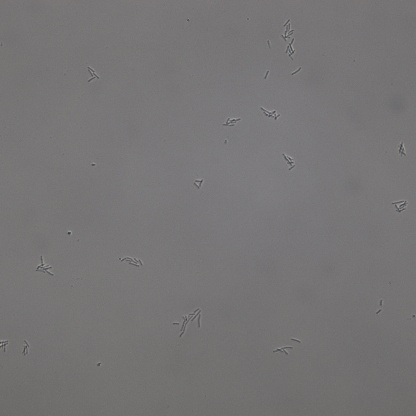R(colony): (171, 307, 201, 338), (36, 256, 53, 276), (281, 18, 295, 41), (119, 256, 143, 267), (286, 39, 298, 60), (261, 107, 280, 120), (282, 151, 295, 170), (221, 116, 241, 128), (392, 198, 407, 214), (86, 65, 100, 82), (21, 340, 31, 357), (397, 142, 406, 157), (273, 347, 292, 354), (193, 178, 203, 190), (1, 339, 9, 353)
